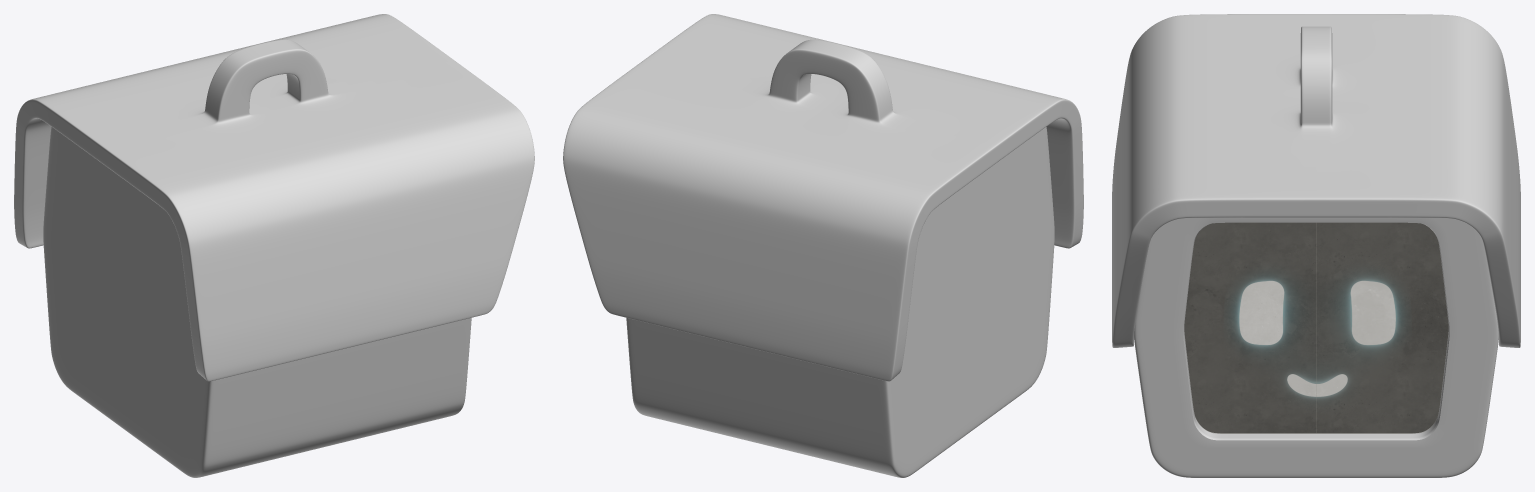
File: otis_shell_v1.glb
3 views of the same model, side by side, from view 1: azimuth 30°, elevation 25°; view 2: azimuth 150°, elevation 25°; view 3: azimuth 270°, elevation 25° (orthographic). The views are drawn at different scales.
Visible parts, largest first — view 1: roof, ccase; view 2: roof, ccase; view 3: roof, glass, fafce, ccase.
Boxes of the visible parts, bbox=[...] form: roof: bbox=[14, 14, 534, 381]; ccase: bbox=[43, 127, 471, 477]; roof: bbox=[563, 14, 1083, 381]; ccase: bbox=[626, 127, 1054, 477]; roof: bbox=[1112, 14, 1520, 347]; glass: bbox=[1184, 222, 1448, 433]; fafce: bbox=[1184, 222, 1448, 433]; ccase: bbox=[1134, 217, 1498, 477].
Size of the model in its own units: 2.69 by 2.55 by 2.51.
Materials: 3 (2 with a texture image).
